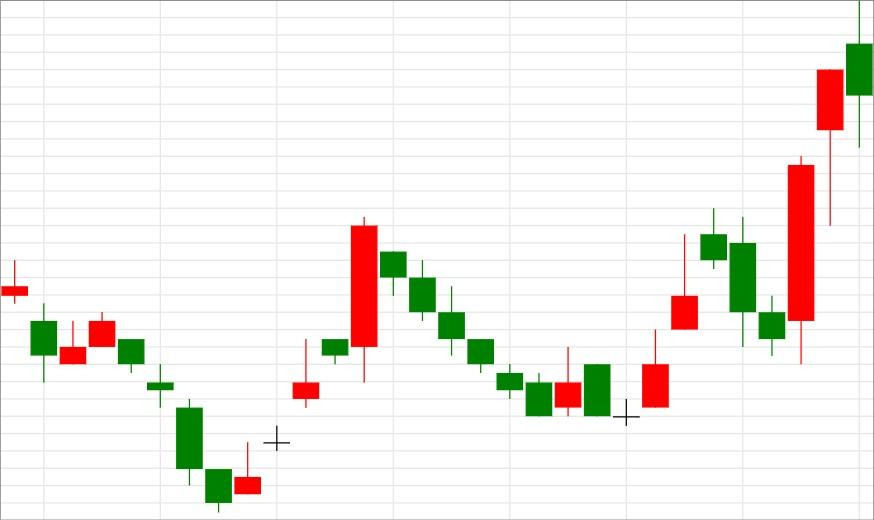three_black_crows_fall: (205, 217, 466, 514)
